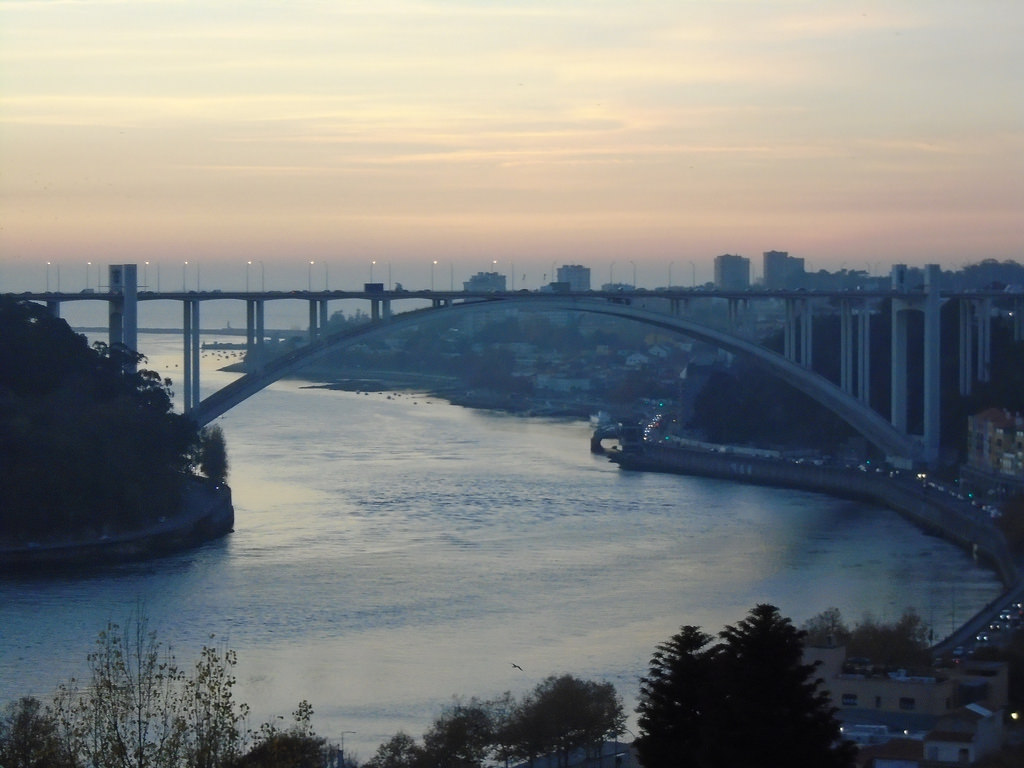arrabida: (0, 260, 1023, 476)
